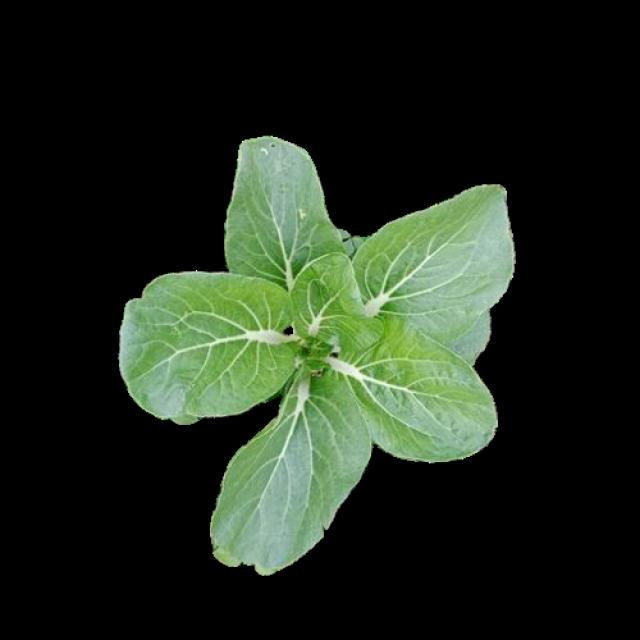mature: (119, 137, 515, 576)
unhealthy: (219, 136, 356, 288)
